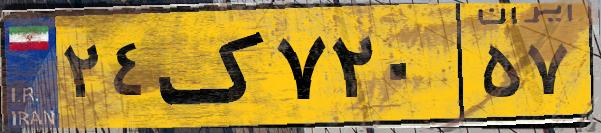0: (385, 28, 445, 110)
2: (330, 28, 385, 110), (57, 26, 110, 100)
4: (110, 28, 158, 98)
5: (475, 38, 525, 113)
7: (270, 28, 330, 110), (525, 38, 570, 115)
ک: (158, 12, 270, 120)
